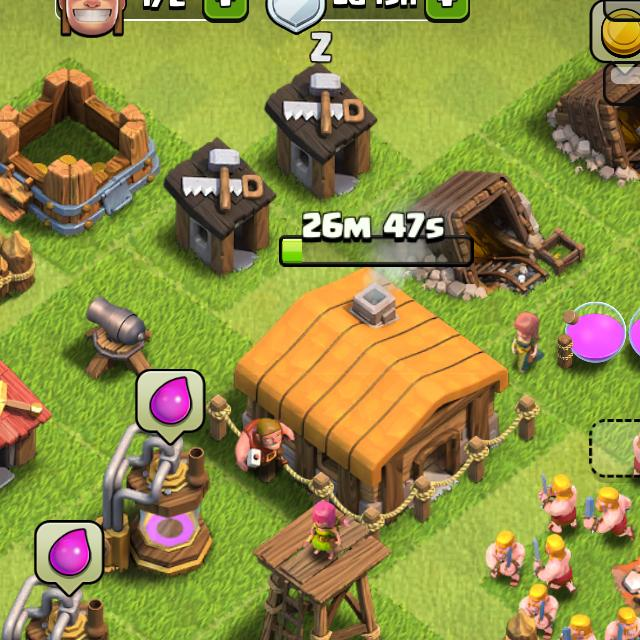Elixir: (31, 519, 104, 597), (134, 369, 206, 446)
coin: (591, 4, 640, 63)
